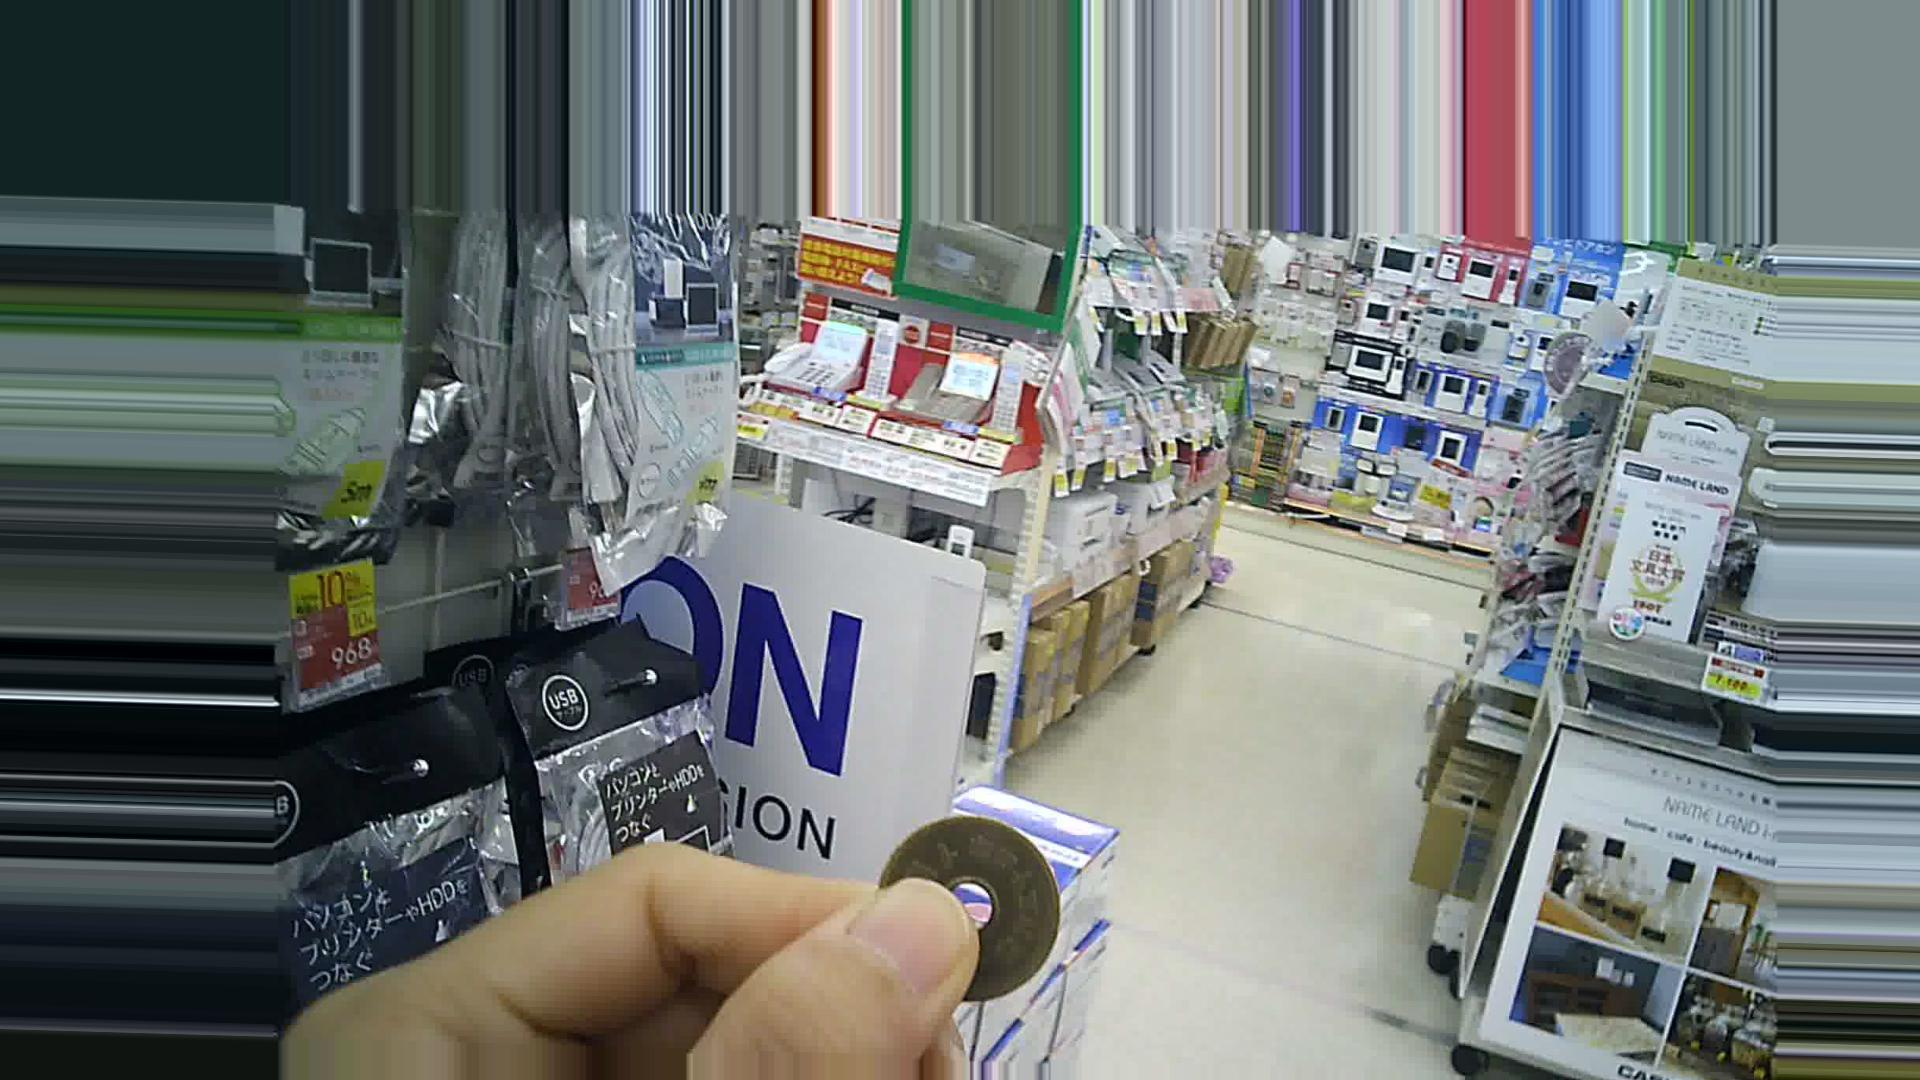5 Yen: (857, 802, 1069, 996)
